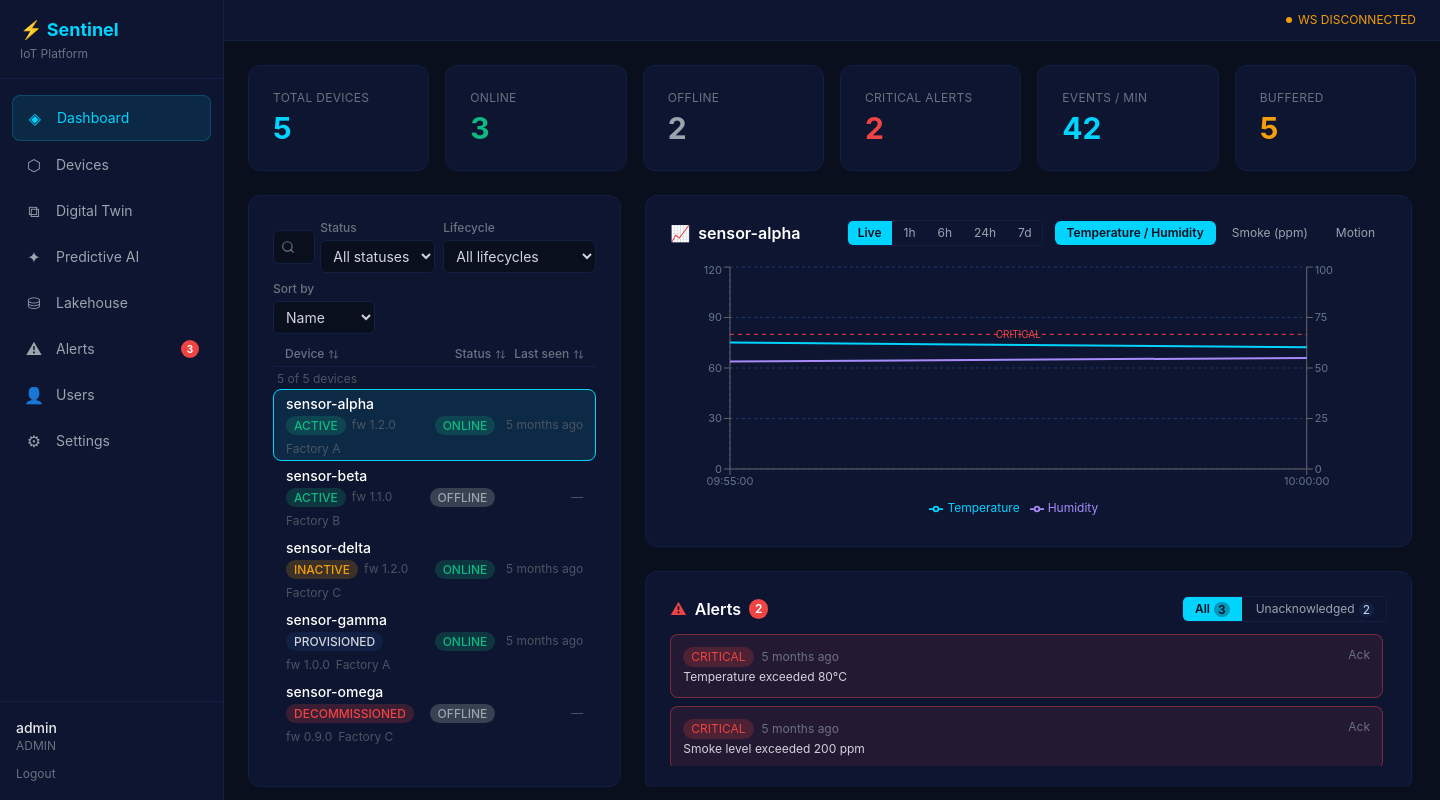
Test: Device Filters › status filter shows only ONLINE devices
This screenshot has width=1440, height=800.
Select "Online" in the dropdown with id "filter-status" at (378, 257), box [320, 240, 435, 273]
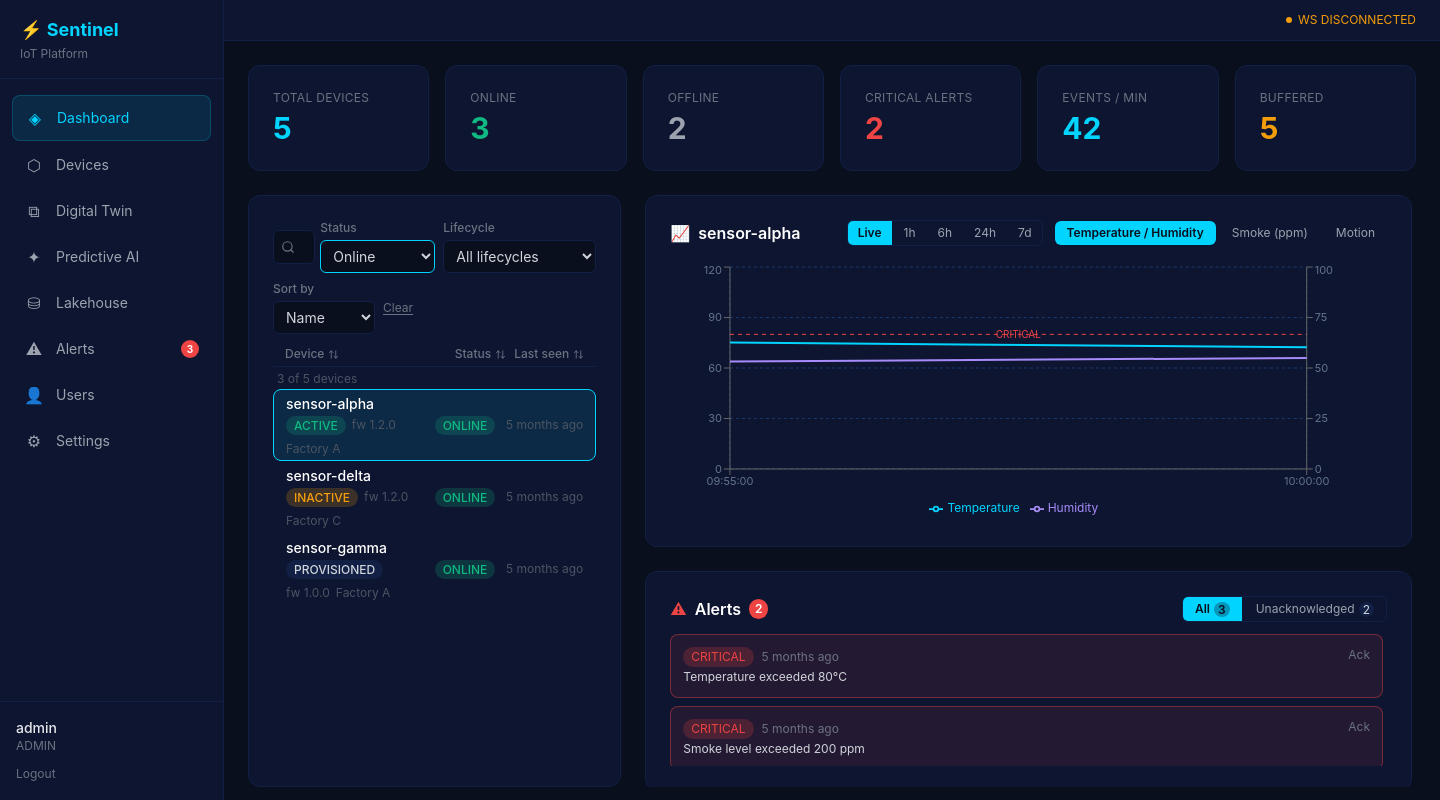
Expected: the text "sensor-alpha" is shown, [286, 394, 374, 412]
Expected: the text "sensor-beta" is gone
Expected: the text "sensor-omega" is gone
